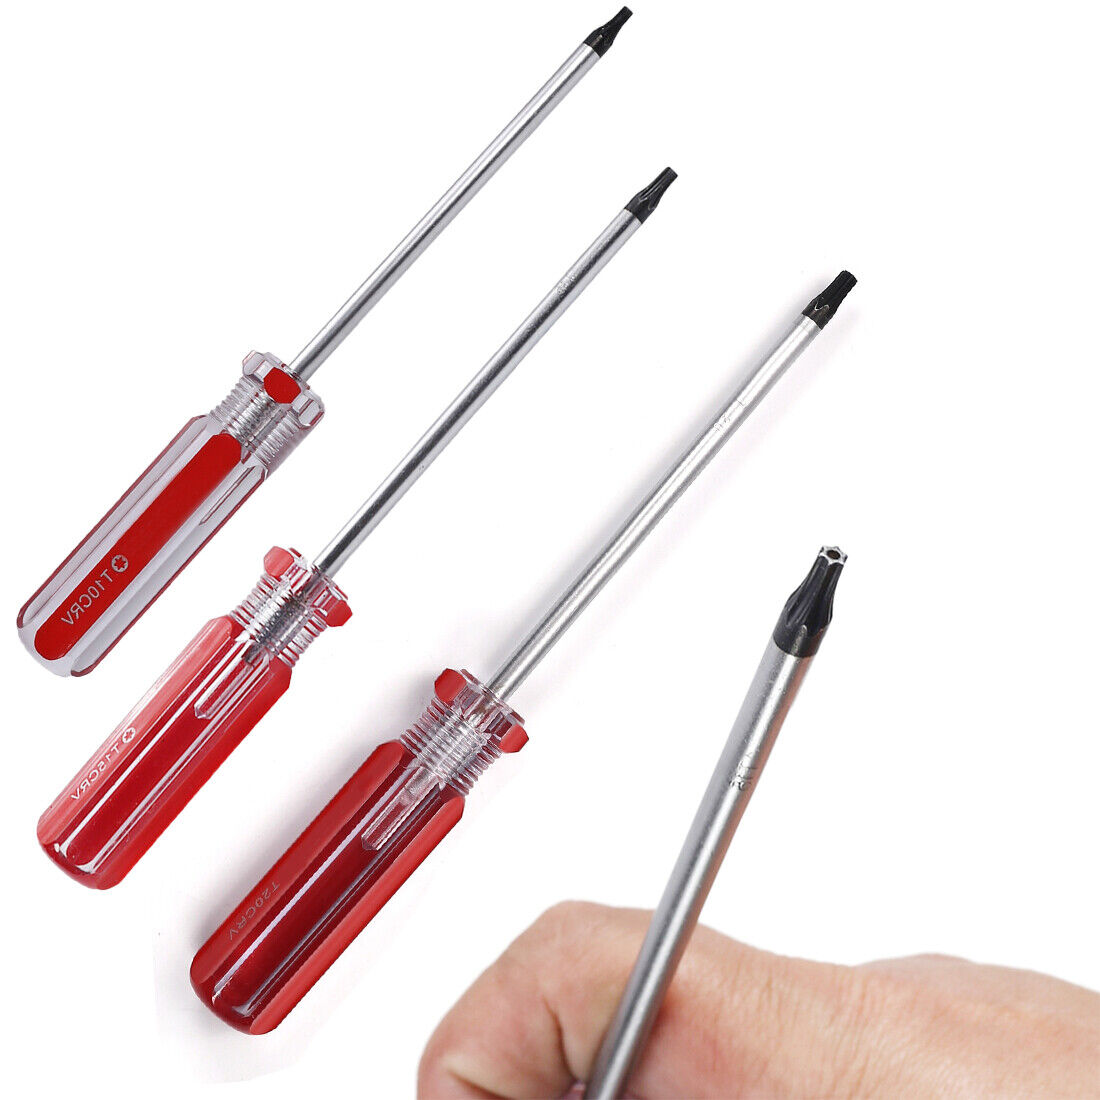screwdriver: (193, 268, 857, 1037), (34, 165, 676, 893), (26, 6, 635, 684)
